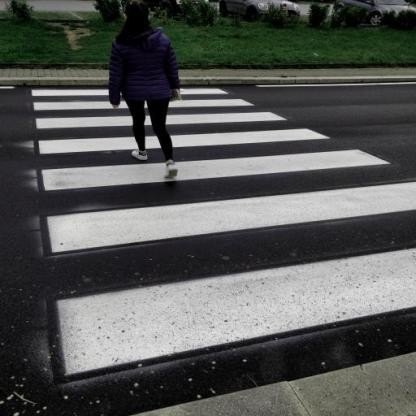crosswalk: (28, 121, 399, 196), (21, 86, 263, 112)
